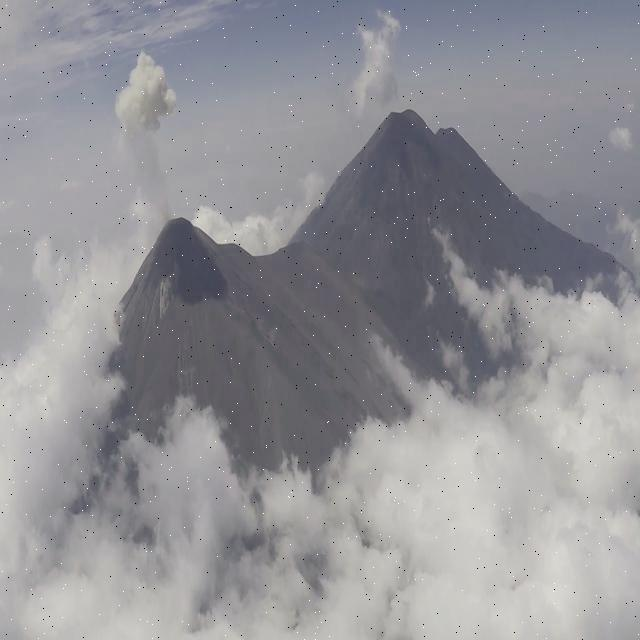Plume: (112, 48, 174, 145)
Summit: (132, 211, 252, 292)
